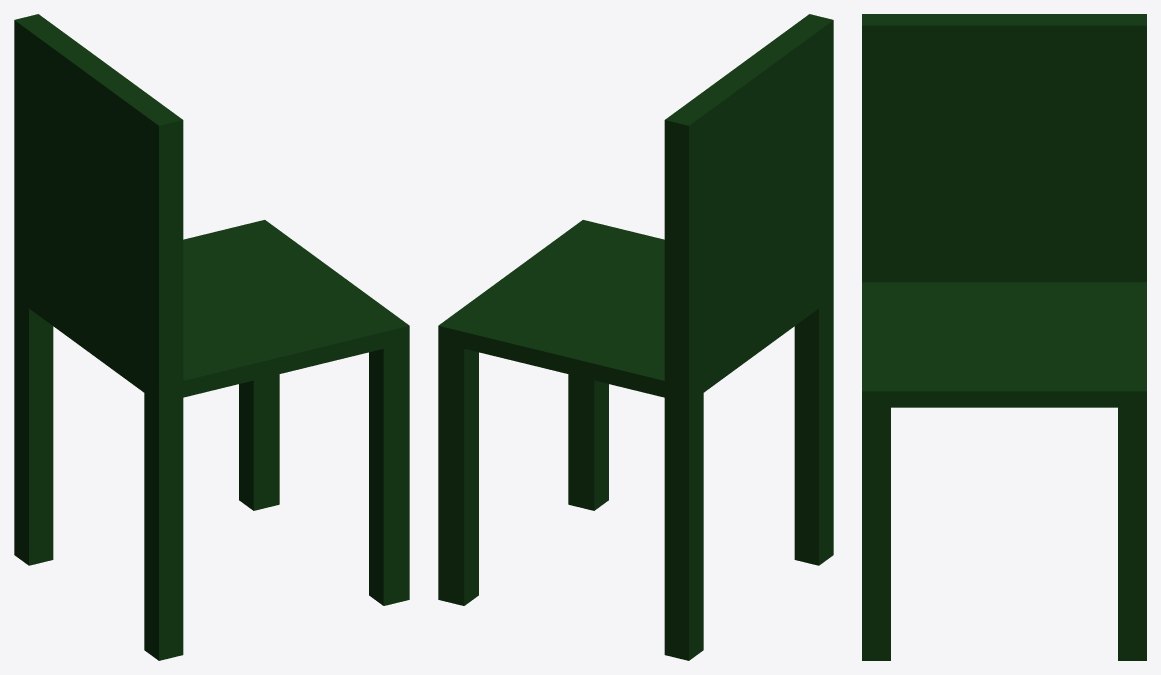
Rendered from Chair.obj.
The picture shows the model from 3 angles, left to right: view 1: azimuth 30°, elevation 25°; view 2: azimuth 150°, elevation 25°; view 3: azimuth 270°, elevation 25°; orthographic projection.
Parts seen in each view (by area): view 1: pasted__pCube2 group; view 2: pasted__pCube2 group; view 3: pasted__pCube2 group.
Boxes of the visible parts, left/top/right/bottom form: pasted__pCube2 group: left=14, top=14, right=409, bottom=660; pasted__pCube2 group: left=438, top=14, right=833, bottom=660; pasted__pCube2 group: left=862, top=14, right=1146, bottom=660.
Bounding box in the file's own units: 0.7267 × 1.48 × 0.7267.
